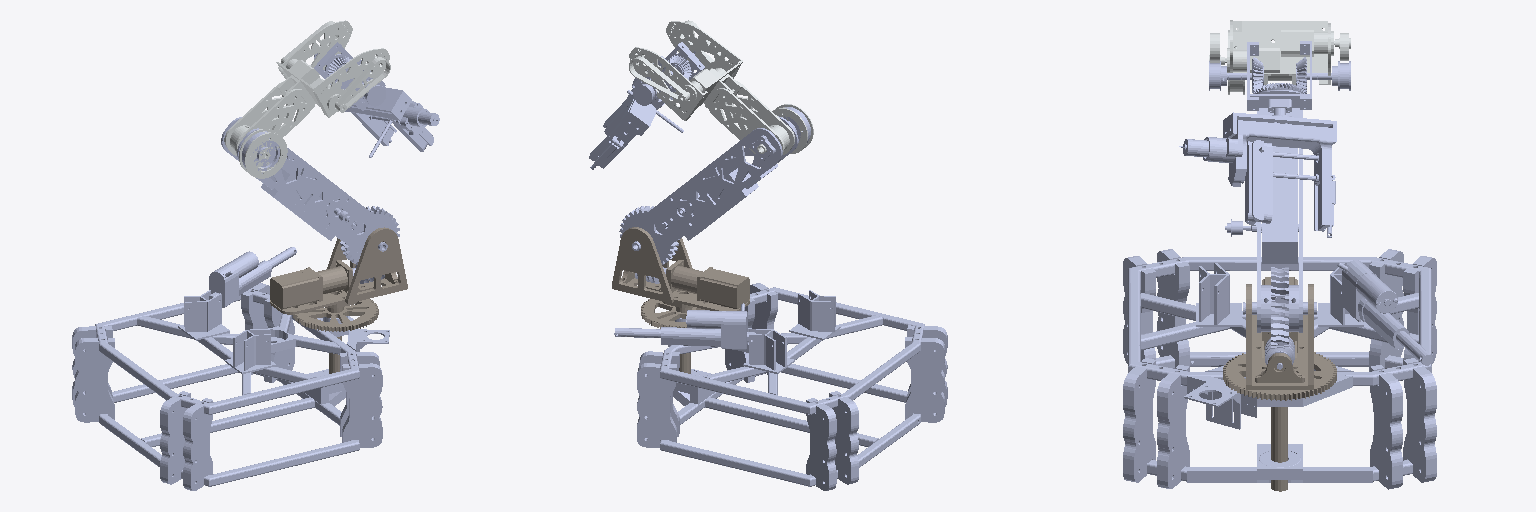
The robot description file, URDF, robot "ARM YPR GRIPPER_7(3)":
<?xml version="1.0" encoding="utf-8"?>
<!-- This URDF was automatically created by SolidWorks to URDF Exporter! Originally created by [author] ([email redacted]) 
     Commit Version: 1.6.0-4-g7f85cfe  Build Version: 1.6.7995.38578
     For more information, please see http://wiki.ros.org/sw_urdf_exporter -->
<robot
  name="ARM YPR GRIPPER_7(3)">
 <link name="worldb"/>
    <joint name="world_joint" type="fixed">
      <parent link="worldb"/>
      <child link="base_link"/>
      <origin xyz="0 0 0" rpy="-1.5708 0 0"/>
    </joint>
  <link
    name="base_link">
    <inertial>
      <origin
        xyz="1.09427024557404 -0.202481216910072 0.125135264568647"
        rpy="0 0 0" />
      <mass
        value="4.02995163253206" />
      <inertia
        ixx="0.0142526010590084"
        ixy="-0.000921986919945574"
        ixz="-0.0002672269741825"
        iyy="0.0130919906841085"
        iyz="-0.00166810244583697"
        izz="0.0120910989509573" />
    </inertial>
    <visual>
      <origin
        xyz="0 0 0"
        rpy="0 0 0" />
      <geometry>
        <mesh
          filename="../meshes/base_link.STL" />
      </geometry>
      <material
        name="">
        <color
          rgba="0.792156862745098 0.819607843137255 0.933333333333333 1" />
      </material>
    </visual>
    <collision>
      <origin
        xyz="0 0 0"
        rpy="0 0 0" />
      <geometry>
        <mesh
          filename="../meshes/base_link.STL" />
      </geometry>
    </collision>
  </link>
  <link
    name="turntable">
    <inertial>
      <origin
        xyz="-0.00166977411269786 0.000326905921522735 -0.234011613168333"
        rpy="0 0 0" />
      <mass
        value="2.52870378509004" />
      <inertia
        ixx="0.00487001876046124"
        ixy="-0.000856577593722426"
        ixz="-2.16626157193247E-05"
        iyy="0.00640750844960913"
        iyz="-9.66775820890341E-06"
        izz="0.009292712522915" />
    </inertial>
    <visual>
      <origin
        xyz="0 0 0"
        rpy="0 0 0" />
      <geometry>
        <mesh
          filename="../meshes/turntable.STL" />
      </geometry>
      <material
        name="">
        <color
          rgba="0.650980392156863 0.619607843137255 0.588235294117647 1" />
      </material>
    </visual>
    <collision>
      <origin
        xyz="0 0 0"
        rpy="0 0 0" />
      <geometry>
        <mesh
          filename="../meshes/turntable.STL" />
      </geometry>
    </collision>
  </link>
  <joint
    name="turntable_joint"
    type="continuous">
    <origin
      xyz="1.3062 -0.008 -0.21244"
      rpy="1.5708 0.4197 -3.1416" />
    <parent
      link="base_link" />
    <child
      link="turntable" />
    <axis
      xyz="0 0 -1" />
    <limit
      lower="0"
      upper="0"
      effort="0"
      velocity="0" />
  </joint>
  <link
    name="worm_pitch">
    <inertial>
      <origin
        xyz="-0.00975815373260705 -0.122290051681618 0.136123713907067"
        rpy="0 0 0" />
      <mass
        value="3.22088245146418" />
      <inertia
        ixx="0.028075197132574"
        ixy="-3.66959106019684E-08"
        ixz="-5.7074798108831E-07"
        iyy="0.0153806055256586"
        iyz="0.0120933072327016"
        izz="0.0139246638945512" />
    </inertial>
    <visual>
      <origin
        xyz="0 0 0"
        rpy="0 0 0" />
      <geometry>
        <mesh
          filename="../meshes/worm_pitch.STL" />
      </geometry>
      <material
        name="">
        <color
          rgba="0.792156862745098 0.819607843137255 0.933333333333333 1" />
      </material>
    </visual>
    <collision>
      <origin
        xyz="0 0 0"
        rpy="0 0 0" />
      <geometry>
        <mesh
          filename="../meshes/worm_pitch.STL" />
      </geometry>
    </collision>
  </link>
  <joint
    name="pitch1_joint"
    type="revolute">
    <origin
      xyz="-0.077669 -0.034657 -0.35972"
      rpy="1.5708 0 1.9905" />
    <parent
      link="turntable" />
    <child
      link="worm_pitch" />
    <axis
      xyz="0 0 0" />
    <limit
      lower="0"
      upper="0"
      effort="0"
      velocity="0" />
  </joint>
  <link
    name="pulley">
    <inertial>
      <origin
        xyz="-0.0673426015925775 -0.0631792213547742 -0.0419110050060416"
        rpy="0 0 0" />
      <mass
        value="1.78809301817132" />
      <inertia
        ixx="0.00213333962795825"
        ixy="-0.000867369380655108"
        ixz="1.95378138236375E-06"
        iyy="0.00222169684621381"
        iyz="-2.21824277051348E-06"
        izz="0.00323857443296241" />
    </inertial>
    <visual>
      <origin
        xyz="0 0 0"
        rpy="0 0 0" />
      <geometry>
        <mesh
          filename="../meshes/pulley.STL" />
      </geometry>
      <material
        name="">
        <color
          rgba="0.898039215686275 0.917647058823529 0.929411764705882 1" />
      </material>
    </visual>
    <collision>
      <origin
        xyz="0 0 0"
        rpy="0 0 0" />
      <geometry>
        <mesh
          filename="../meshes/pulley.STL" />
      </geometry>
    </collision>
  </link>
  <joint
    name="pitch2_joint"
    type="revolute">
    <origin
      xyz="-0.06 -0.29638 0.3046"
      rpy="1.5708 -1.3527 -1.5708" />
    <parent
      link="worm_pitch" />
    <child
      link="pulley" />
    <axis
      xyz="0 0 0" />
    <limit
      lower="0"
      upper="0"
      effort="0"
      velocity="0" />
  </joint>
  <link
    name="pitch">
    <inertial>
      <origin
        xyz="0.0621093052792882 0.134911339866618 0.00321850945902857"
        rpy="0 0 0" />
      <mass
        value="0.925309237354222" />
      <inertia
        ixx="0.000905421667853945"
        ixy="5.34410521521279E-05"
        ixz="-0.000133446093158407"
        iyy="0.000840392018840474"
        iyz="1.72313345234428E-05"
        izz="0.00123723886418401" />
    </inertial>
    <visual>
      <origin
        xyz="0 0 0"
        rpy="0 0 0" />
      <geometry>
        <mesh
          filename="../meshes/pitch.STL" />
      </geometry>
      <material
        name="">
        <color
          rgba="0.792156862745098 0.819607843137255 0.933333333333333 1" />
      </material>
    </visual>
    <collision>
      <origin
        xyz="0 0 0"
        rpy="0 0 0" />
      <geometry>
        <mesh
          filename="../meshes/pitch.STL" />
      </geometry>
    </collision>
  </link>
  <joint
    name="ypr_pitch_joint"
    type="revolute">
    <origin
      xyz="-0.19051 -0.17768 -0.112"
      rpy="0.90468 -1.5708 0" />
    <parent
      link="pulley" />
    <child
      link="pitch" />
    <axis
      xyz="0 0 0" />
    <limit
      lower="0"
      upper="0"
      effort="0"
      velocity="0" />
  </joint>
  <link
    name="roll">
    <inertial>
      <origin
        xyz="0.00820967776761528 -0.00829727431426236 -0.074102550252656"
        rpy="0 0 0" />
      <mass
        value="0.82217408126112" />
      <inertia
        ixx="0.00095789128315225"
        ixy="0.000221680503309467"
        ixz="-3.93410375747593E-05"
        iyy="0.00095978773652777"
        iyz="4.00433372780917E-05"
        izz="0.000768380095989253" />
    </inertial>
    <visual>
      <origin
        xyz="0 0 0"
        rpy="0 0 0" />
      <geometry>
        <mesh
          filename="../meshes/roll.STL" />
      </geometry>
      <material
        name="">
        <color
          rgba="0.792156862745098 0.819607843137255 0.933333333333333 1" />
      </material>
    </visual>
    <collision>
      <origin
        xyz="0 0 0"
        rpy="0 0 0" />
      <geometry>
        <mesh
          filename="../meshes/roll.STL" />
      </geometry>
    </collision>
  </link>
  <joint
    name="roll"
    type="continuous">
    <origin
      xyz="0.05225 0.069756 0"
      rpy="1.5708 -1.1062 0" />
    <parent
      link="pitch" />
    <child
      link="roll" />
    <axis
      xyz="0 0 0" />
    <limit
      lower="0"
      upper="0"
      effort="0"
      velocity="0" />
  </joint>
  <link
    name="grip">
    <inertial>
      <origin
        xyz="-0.0253848183695893 0.000677446241029944 -0.00279078982371761"
        rpy="0 0 0" />
      <mass
        value="0.0848713844080814" />
      <inertia
        ixx="2.7994810224387E-05"
        ixy="-5.42948119190007E-19"
        ixz="2.23797026426176E-06"
        iyy="0.000124654921884766"
        iyz="0"
        izz="0.000120801849157496" />
    </inertial>
    <visual>
      <origin
        xyz="0 0 0"
        rpy="0 0 0" />
      <geometry>
        <mesh
          filename="../meshes/grip.STL" />
      </geometry>
      <material
        name="">
        <color
          rgba="0.792156862745098 0.819607843137255 0.933333333333333 1" />
      </material>
    </visual>
    <collision>
      <origin
        xyz="0 0 0"
        rpy="0 0 0" />
      <geometry>
        <mesh
          filename="../meshes/grip.STL" />
      </geometry>
    </collision>
  </link>
  <joint
    name="grip"
    type="fixed">
    <origin
      xyz="0.026864 -0.025906 -0.17748"
      rpy="2.3562 1.5708 0" />
    <parent
      link="roll" />
    <child
      link="grip" />
    <axis
      xyz="0 0 0" />
  </joint>
</robot>

--- Render facts (derived) ---
The picture shows the robot from 3 angles, left to right: view 1: azimuth 30°, elevation 25°; view 2: azimuth 150°, elevation 25°; view 3: azimuth 270°, elevation 25°; orthographic projection.
Model ARM YPR GRIPPER_7(3) with 8 links and 7 joints (3 revolute, 2 continuous, 2 fixed), rooted at worldb, posed all joints at 0.
Visible links, largest first — view 1: base_link, pulley, turntable, worm_pitch, pitch, roll; view 2: base_link, pulley, worm_pitch, turntable, roll, pitch; view 3: base_link, pitch, worm_pitch, turntable, pulley, roll, grip.
Link boxes in pixels (x1,y1,x2,y2): base_link: (72,247,389,490); pulley: (224,20,390,178); turntable: (270,227,407,373); worm_pitch: (221,117,399,283); pitch: (314,42,439,150); roll: (328,56,439,151); base_link: (614,283,947,490); pulley: (629,20,813,154); worm_pitch: (619,107,810,283); turntable: (612,227,749,373); roll: (589,55,700,168); pitch: (589,42,704,169); base_link: (1123,249,1436,489); pitch: (1179,41,1350,237); worm_pitch: (1225,108,1316,369); turntable: (1223,277,1336,491); pulley: (1209,20,1350,94); roll: (1187,57,1350,237); grip: (1245,141,1272,223).
Bounding box of the posed robot: 0.7566 × 0.5075 × 0.8508 m (x, y, z).
7 mesh visuals loaded from 7 distinct referenced files (7 binary STL).
